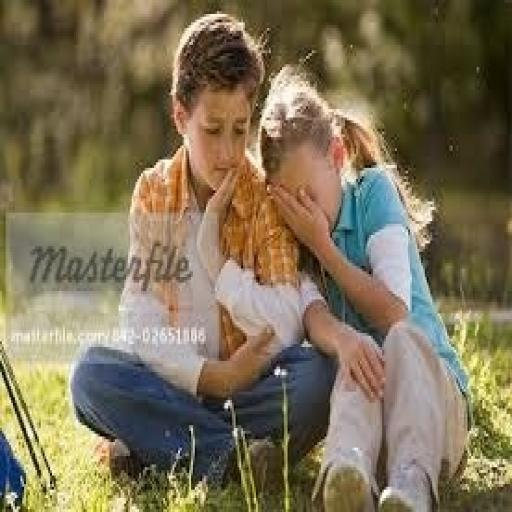sitting: (67, 8, 473, 506)
